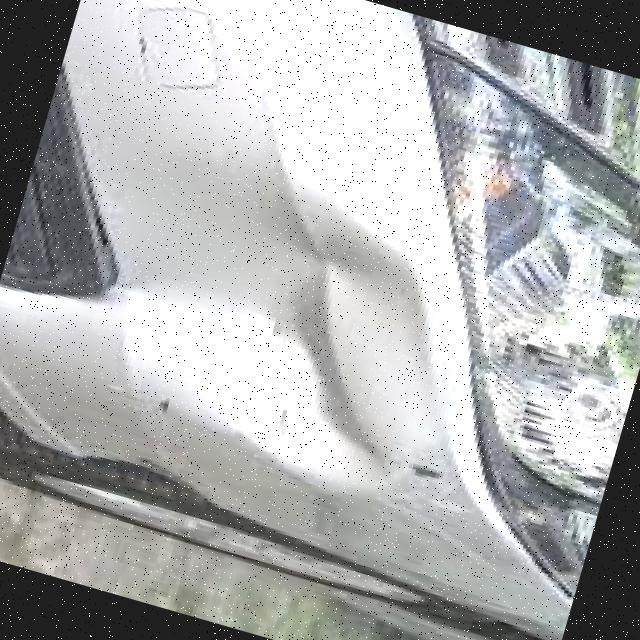Dent: (82, 140, 477, 527)
